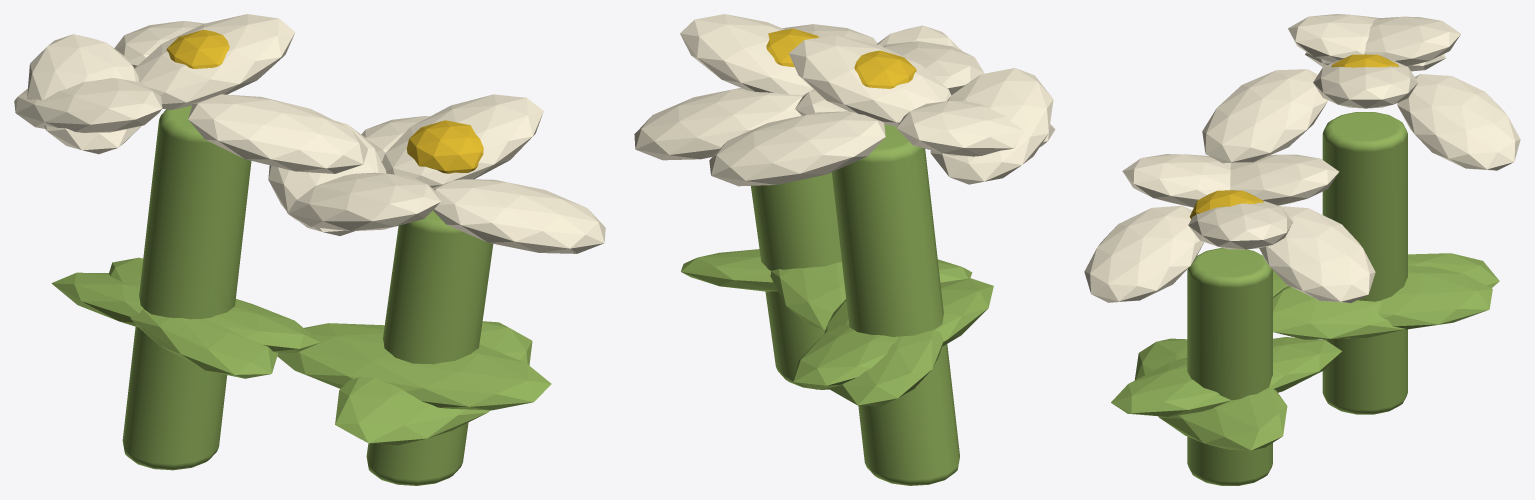
File: prop_flowers_white.glb
The picture shows the model from 3 angles, left to right: view 1: azimuth 30°, elevation 25°; view 2: azimuth 150°, elevation 25°; view 3: azimuth 270°, elevation 25°; orthographic projection. The views are drawn at different scales.
Parts seen in each view (by area): view 1: fwh_stem, fwh2_stem, fwh2_leaf1, fwh_petal2, fwh2_petal2, fwh_petal0, fwh2_leaf0, fwh2_petal4, fwh2_petal0, fwh_leaf1, fwh_petal1, fwh_leaf0 (+6 smaller); view 2: fwh_stem, fwh2_stem, fwh_petal3, fwh2_petal3, fwh_petal0, fwh_petal4, fwh_leaf1, fwh2_petal0, fwh_petal1, fwh_leaf0, fwh2_leaf1, fwh2_leaf0 (+6 smaller); view 3: fwh_stem, fwh2_stem, fwh_petal2, fwh_petal3, fwh2_petal2, fwh2_petal3, fwh2_leaf1, fwh_leaf0, fwh2_leaf0, fwh_leaf1, fwh2_petal4, fwh2_petal1 (+6 smaller).
Boxes of the visible parts, box(x1,y1,x2,y2) form: fwh_stem: box(122, 105, 251, 470); fwh2_stem: box(366, 210, 493, 485); fwh2_leaf1: box(277, 323, 551, 410); fwh_petal2: box(188, 94, 367, 173); fwh2_petal2: box(432, 179, 605, 253); fwh_petal0: box(134, 14, 295, 109); fwh2_leaf0: box(335, 321, 532, 445); fwh2_petal4: box(287, 172, 440, 231); fwh2_petal0: box(382, 94, 543, 187); fwh_leaf1: box(109, 257, 278, 378); fwh_petal1: box(27, 34, 141, 154); fwh_leaf0: box(51, 272, 320, 352); fwh_stem: box(832, 124, 959, 485); fwh2_stem: box(751, 172, 841, 389); fwh_petal3: box(709, 111, 885, 186); fwh2_petal3: box(634, 88, 802, 160); fwh_petal0: box(789, 35, 951, 126); fwh_petal4: box(930, 68, 1053, 184); fwh_leaf1: box(793, 278, 993, 389); fwh2_petal0: box(680, 14, 813, 95); fwh_petal1: box(896, 100, 1055, 156); fwh_leaf0: box(824, 299, 943, 406); fwh2_leaf1: box(770, 262, 846, 329); fwh2_leaf0: box(681, 249, 972, 291); fwh_stem: box(1322, 112, 1407, 414); fwh2_stem: box(1187, 248, 1272, 485); fwh_petal2: box(1202, 69, 1327, 163); fwh_petal3: box(1397, 74, 1520, 170); fwh2_petal2: box(1084, 205, 1203, 302); fwh2_petal3: box(1259, 206, 1375, 302); fwh2_leaf1: box(1111, 337, 1341, 416); fwh_leaf0: box(1273, 253, 1499, 339); fwh2_leaf0: box(1134, 338, 1287, 450); fwh_leaf1: box(1273, 265, 1492, 330); fwh2_petal4: box(1122, 154, 1230, 207); fwh2_petal1: box(1230, 154, 1339, 205).
Bounding box in the file's own units: 0.3868 × 0.3518 × 0.3876.
